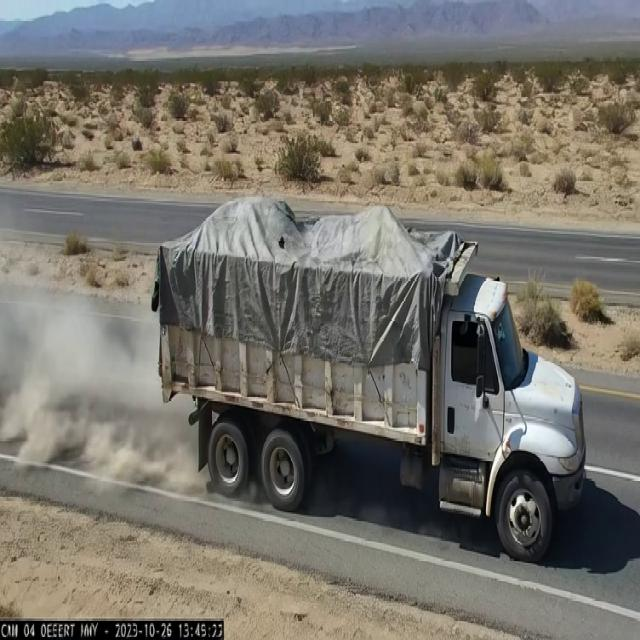Box: (144, 195, 479, 308)
Truck: (136, 161, 600, 540)
